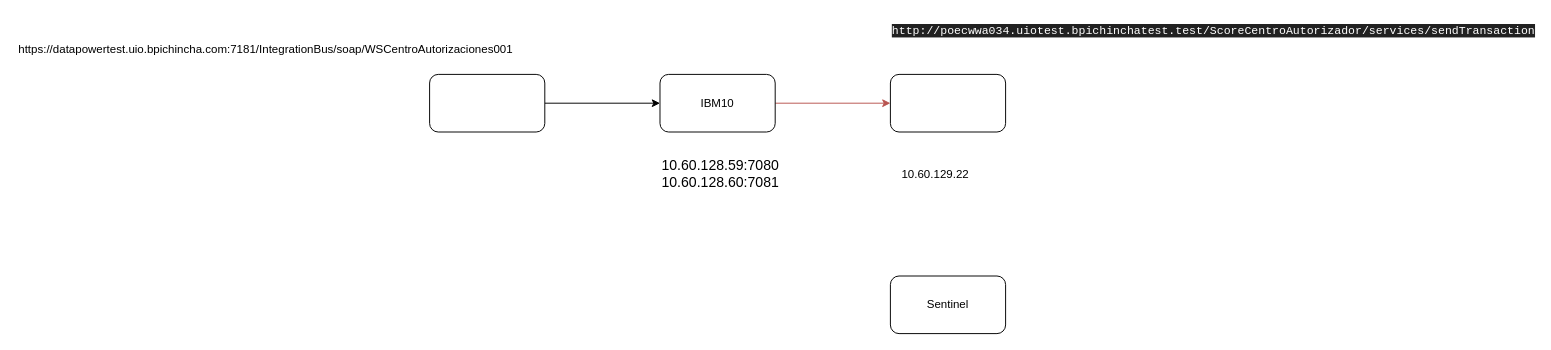
This 1551x350 diagram has some shape labels left out. The centre of each missing label's shape, as x and y in pixels:
"DataPower" belongs at (487,102).
"Spartan CA" belongs at (947,102).
